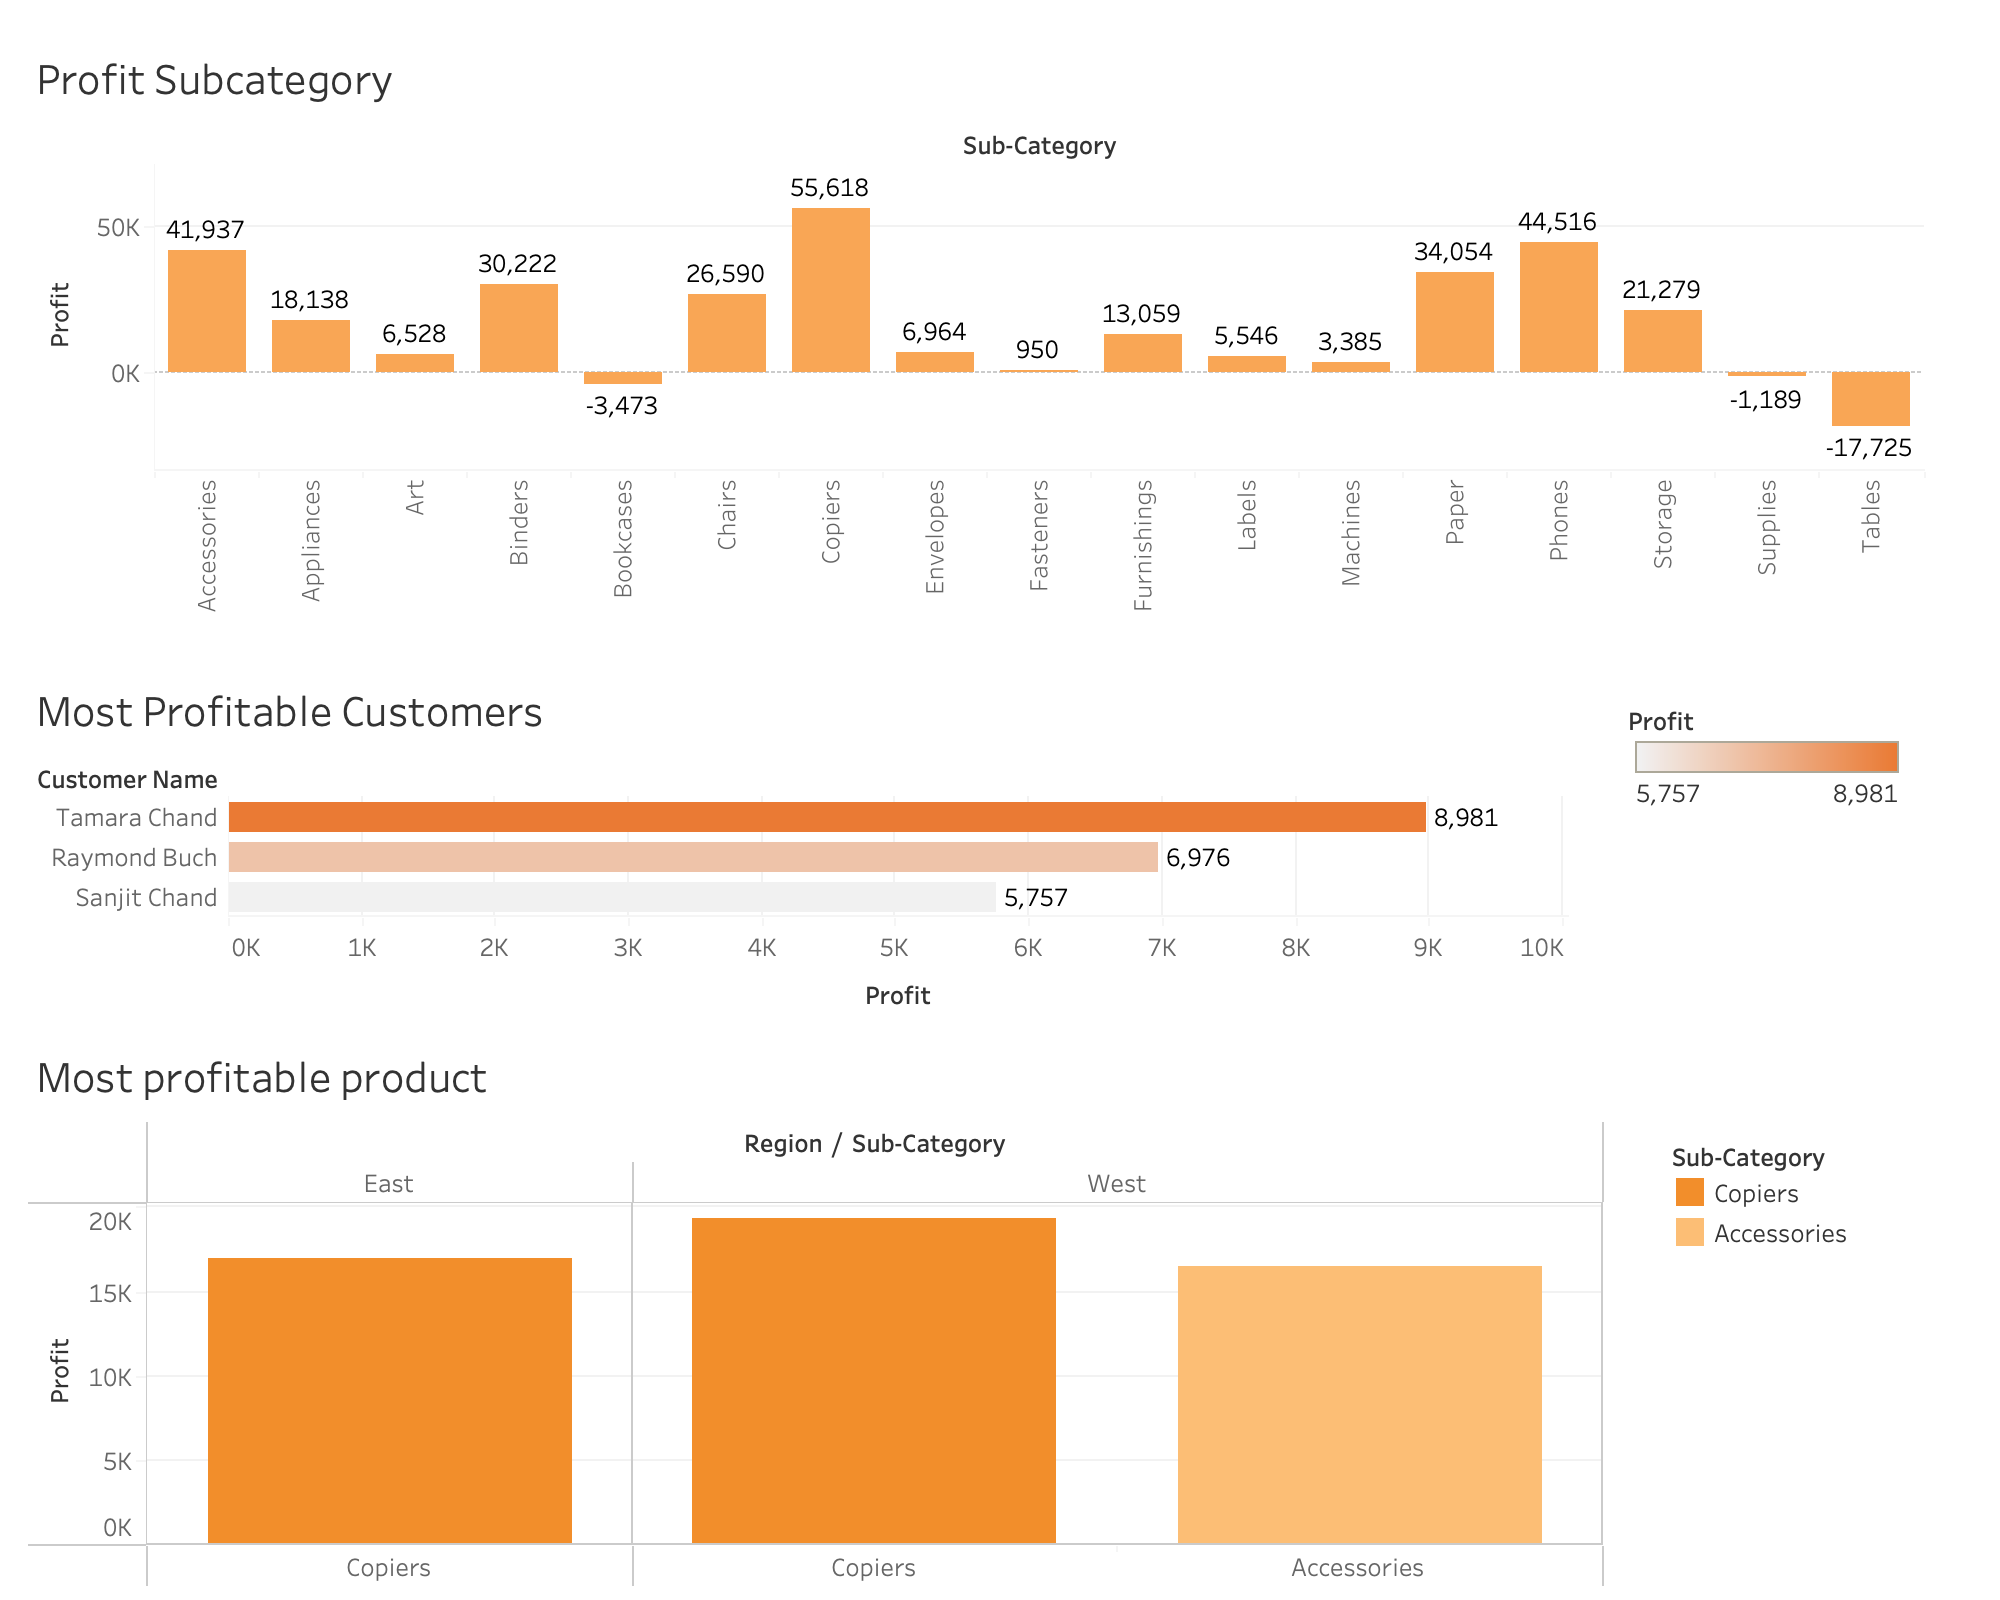

The page's visual inventory and layout, read from the dashboard file:
{"tool":"tableau","page":{"name":"Dashboard 2","canvas":[1000,800],"ordinal":1},"visuals":[{"type":"worksheet","title":"Profit Subcategory","mark":"Automatic","rows":["Profit"],"cols":["Sub-Category"],"box":[14,19,948,296]},{"type":"worksheet","title":"Most Profitable Customers","mark":"Automatic","rows":["Customer Name"],"cols":["Profit"],"box":[14,335,770,266]},{"type":"legend","title":"Most Profitable Customers","param":"[federated.14ghlal12upeyu1ff5q5p0i8rsl5].[sum:Profit:qk]","box":[814,348,140,76]},{"type":"worksheet","title":"Most profitable product","mark":"Automatic","rows":["Profit"],"cols":["Region","Sub-Category"],"box":[14,518,788,276]},{"type":"legend","title":"Most profitable product","param":"[federated.14ghlal12upeyu1ff5q5p0i8rsl5].[none:Sub-Category:nk]","box":[835,568,140,118]}]}

Visuals, with their boxes in screenshot pixels (x1, y1, x2, y2), scaled from the page's 1000x800 canvas onto the 2000x1600 screenshot:
"Profit Subcategory" worksheet: [x1=28, y1=38, x2=1924, y2=630]
"Most Profitable Customers" worksheet: [x1=28, y1=670, x2=1568, y2=1202]
"Most Profitable Customers" legend: [x1=1628, y1=696, x2=1908, y2=848]
"Most profitable product" worksheet: [x1=28, y1=1036, x2=1604, y2=1588]
"Most profitable product" legend: [x1=1670, y1=1136, x2=1950, y2=1372]
